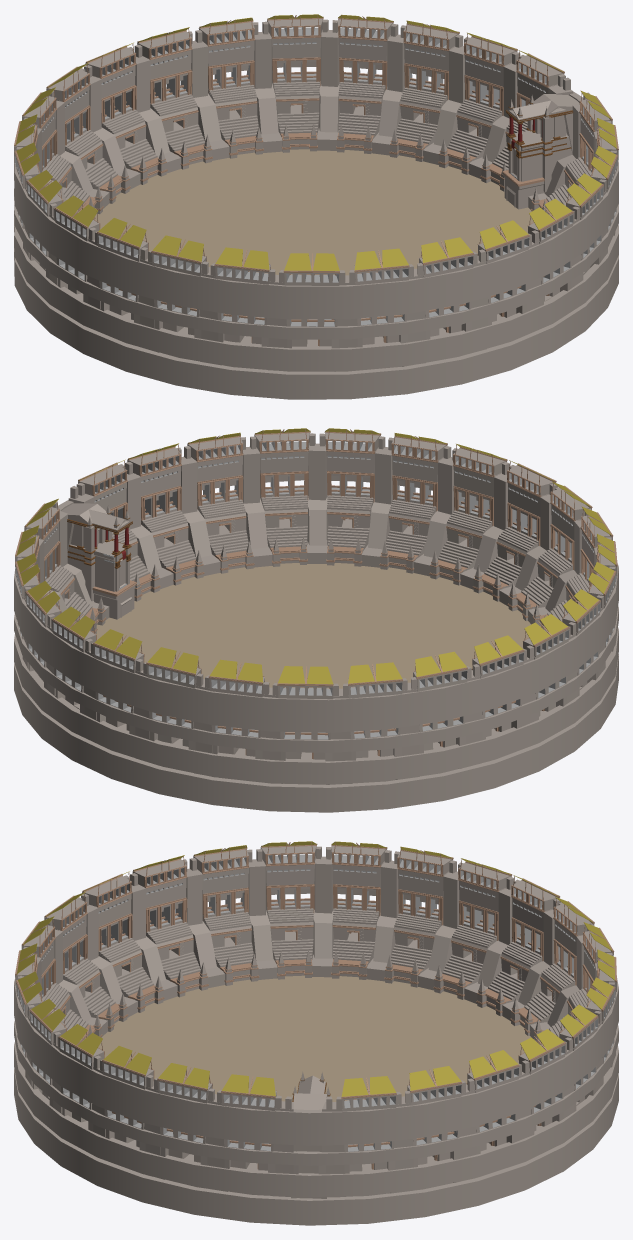
File: arena.fbx
The picture shows the model from 3 angles, top to bottom: view 1: azimuth 30°, elevation 25°; view 2: azimuth 150°, elevation 25°; view 3: azimuth 270°, elevation 25°; orthographic projection.
Visible parts, largest first — view 1: pCylinder1, pCylinder12, pCylinder13, pCylinder16, pCylinder14, pCylinder15, pCube267, polySurface50, polySurface51, polySurface49, polySurface52, polySurface48 (+37 smaller); view 2: pCylinder1, pCylinder12, pCylinder13, pCylinder16, pCylinder14, pCylinder15, pCube267, polySurface33, polySurface32, polySurface34, polySurface31, polySurface30 (+37 smaller); view 3: pCylinder1, pCylinder12, pCylinder13, pCylinder16, pCylinder14, pCylinder15, polySurface41, polySurface42, polySurface40, polySurface43, polySurface39, polySurface44 (+38 smaller).
Part boxes in pixels (bbox=[...]): pCylinder1: bbox=[95, 149, 533, 275]; pCylinder12: bbox=[14, 236, 618, 399]; pCylinder13: bbox=[14, 210, 618, 370]; pCylinder16: bbox=[14, 91, 618, 307]; pCylinder14: bbox=[14, 77, 618, 339]; pCylinder15: bbox=[14, 62, 618, 319]; pCube267: bbox=[502, 94, 579, 209]; polySurface50: bbox=[267, 14, 323, 149]; polySurface51: bbox=[338, 14, 393, 150]; polySurface49: bbox=[198, 17, 258, 154]; polySurface52: bbox=[396, 20, 459, 158]; polySurface48: bbox=[137, 27, 204, 164]; pCylinder1: bbox=[96, 563, 530, 688]; pCylinder12: bbox=[14, 654, 618, 812]; pCylinder13: bbox=[14, 627, 618, 784]; pCylinder16: bbox=[14, 500, 618, 720]; pCylinder14: bbox=[14, 492, 618, 752]; pCylinder15: bbox=[14, 475, 618, 732]; pCube267: bbox=[61, 503, 136, 619]; polySurface33: bbox=[324, 428, 381, 563]; polySurface32: bbox=[254, 428, 310, 563]; polySurface34: bbox=[386, 433, 447, 569]; polySurface31: bbox=[187, 432, 248, 569]; polySurface30: bbox=[127, 443, 196, 580]; pCylinder1: bbox=[98, 975, 530, 1101]; pCylinder12: bbox=[14, 1069, 618, 1225]; pCylinder13: bbox=[14, 1042, 618, 1197]; pCylinder16: bbox=[14, 978, 618, 1134]; pCylinder14: bbox=[14, 909, 618, 1165]; pCylinder15: bbox=[14, 888, 618, 1145]; polySurface41: bbox=[260, 841, 317, 976]; polySurface42: bbox=[331, 841, 387, 977]; polySurface40: bbox=[193, 845, 253, 981]; polySurface43: bbox=[391, 846, 453, 983]; polySurface39: bbox=[132, 855, 200, 991]; polySurface44: bbox=[442, 858, 512, 994].
Size of the model in its own units: 42.77 by 10.72 by 42.77.
